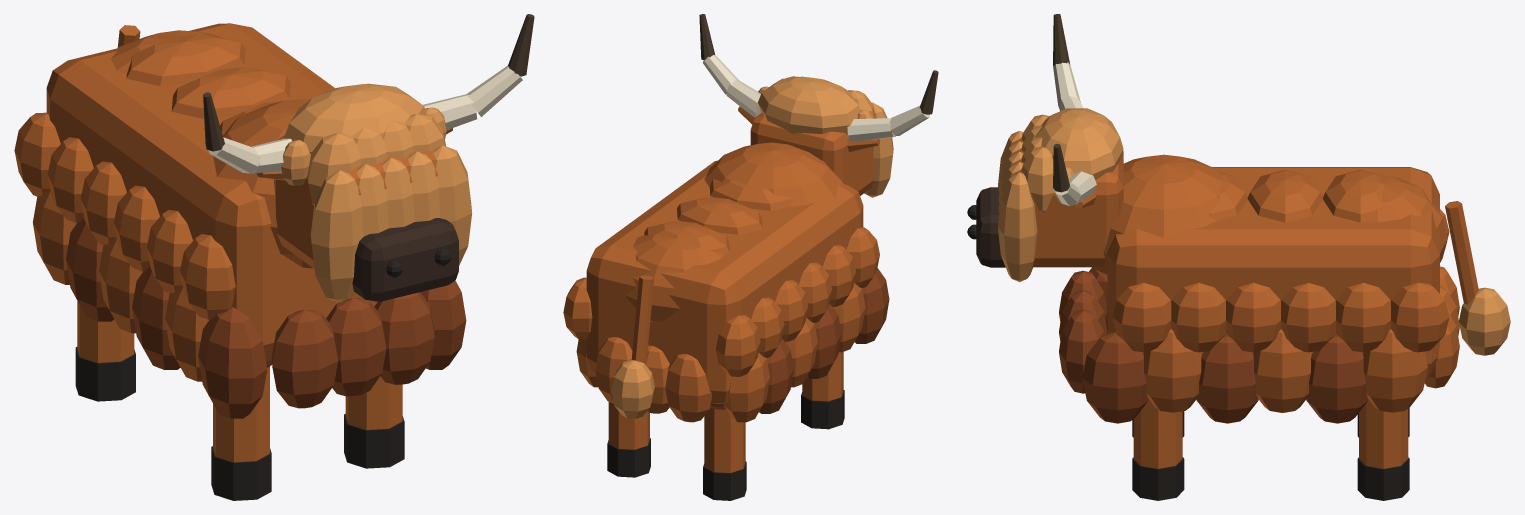
The model's file is cow.glb.
The picture shows the model from 3 angles, left to right: view 1: azimuth 30°, elevation 25°; view 2: azimuth 150°, elevation 25°; view 3: azimuth 270°, elevation 25°; orthographic projection. The views are drawn at different scales.
Visible parts, largest first — view 1: Cow, Head, LegFL, LegFR, LegBL; view 2: Cow, Head, LegBL, Tail, LegBR, LegFL; view 3: Cow, Head, LegBR, LegFR, Tail.
Part boxes in pixels (x1,y1,x2,y2): Cow: (14,23,466,418); Head: (203,14,534,302); LegFL: (211,360,271,500); LegFR: (344,376,404,468); LegBL: (75,301,135,401); Cow: (563,142,889,422); Head: (699,14,938,197); LegBL: (703,403,746,500); Tail: (611,275,654,418); LegBR: (607,402,650,477); LegFL: (801,352,844,429); Cow: (1059,154,1459,423); Head: (967,14,1123,281); LegBR: (1357,399,1409,500); LegFR: (1132,400,1184,500); Tail: (1445,201,1510,355).
Size of the model in its own units: 1.1 by 1.46 by 1.88.
